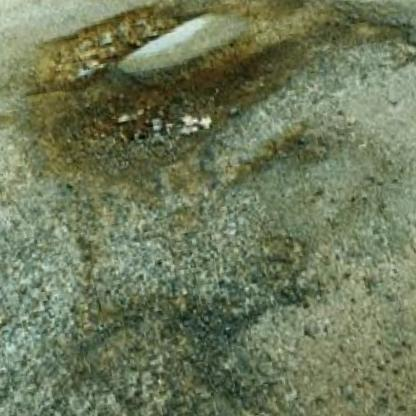pothole: (28, 2, 335, 181), (25, 0, 228, 96)
